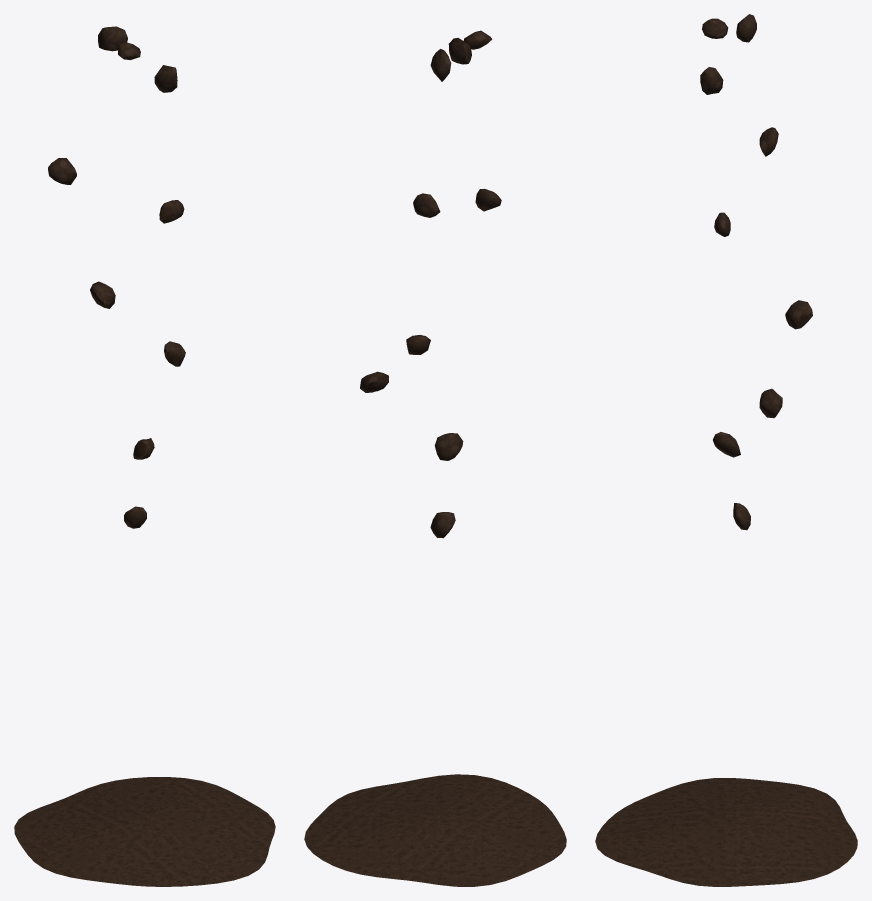
File: PAV-PAI-003_anim.glb
The picture shows the model from 3 angles, left to right: view 1: azimuth 30°, elevation 25°; view 2: azimuth 150°, elevation 25°; view 3: azimuth 270°, elevation 25°; orthographic projection.
Visible parts, largest first — view 1: PAV-PAI-003_anim_monte, PAV-PAI-003_anim_t5, PAV-PAI-003_anim_t7, PAV-PAI-003_anim_t6; view 2: PAV-PAI-003_anim_monte, PAV-PAI-003_anim_t1; view 3: PAV-PAI-003_anim_monte, PAV-PAI-003_anim_t3, PAV-PAI-003_anim_t2.
Boxes of the visible parts, x1,y1,x2,y2 form: PAV-PAI-003_anim_monte: (14,777,275,886); PAV-PAI-003_anim_t5: (48,158,76,184); PAV-PAI-003_anim_t7: (98,26,127,51); PAV-PAI-003_anim_t6: (154,65,177,92); PAV-PAI-003_anim_monte: (304,774,566,886); PAV-PAI-003_anim_t1: (434,433,463,460); PAV-PAI-003_anim_monte: (595,778,857,886); PAV-PAI-003_anim_t3: (785,300,812,329); PAV-PAI-003_anim_t2: (759,388,782,418).
Bounding box in the file's own units: 0.4407 × 1.51 × 0.4482.
Materials: 1 (1 with a texture image).
